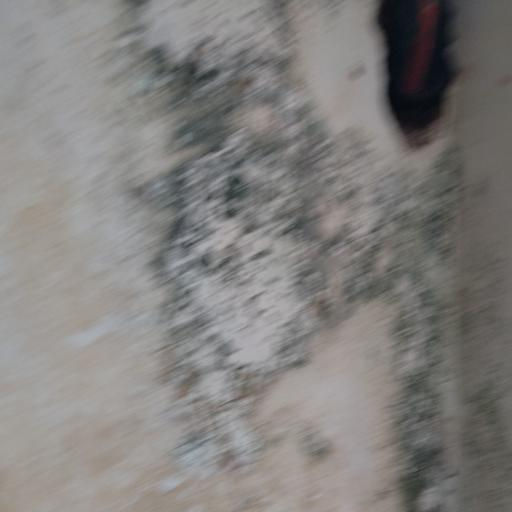algae: (94, 26, 512, 512)
